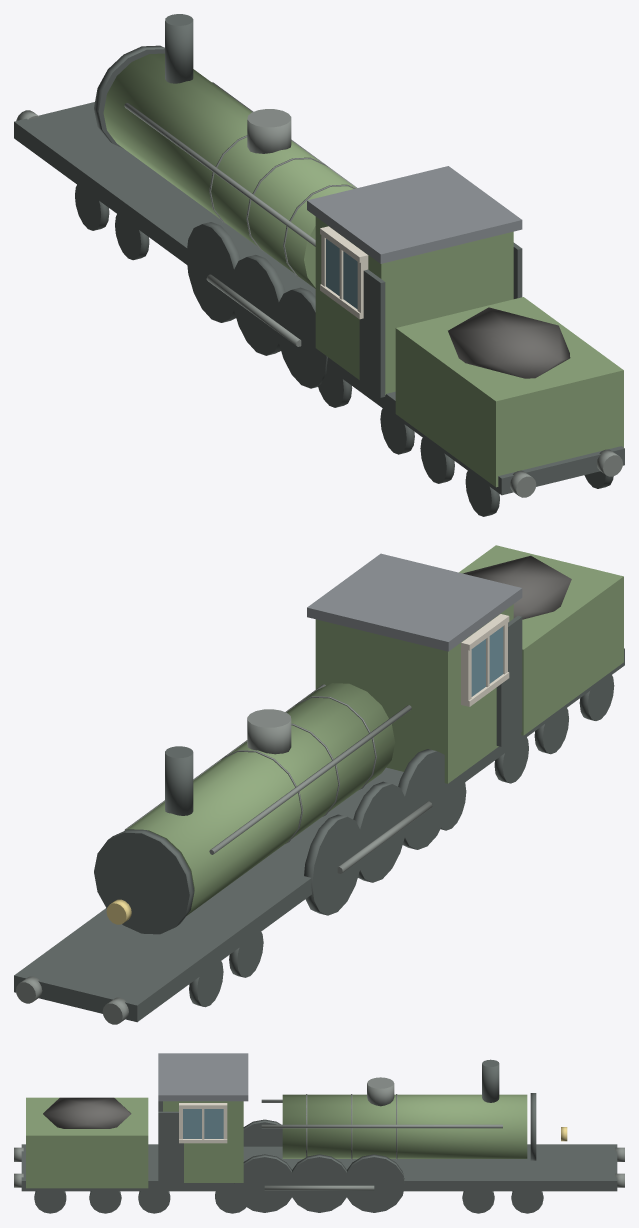
The model's file is tyne-a3_lod0.glb.
The picture shows the model from 3 angles, top to bottom: view 1: azimuth 30°, elevation 25°; view 2: azimuth 150°, elevation 25°; view 3: azimuth 270°, elevation 25°; orthographic projection. The views are drawn at different scales.
Visible parts, largest first — view 1: RF_Tender, RF_Boiler, RF_Chassis, RF_Cab, RF_CabRoof, RF_TenderCoal, RF_DrivingWheel.003, RF_DrivingWheel.002, RF_DrivingWheel.001, RF_CabDoor.001, RF_Chimney, RF_Dome (+10 smaller); view 2: RF_Boiler, RF_Chassis, RF_Cab, RF_Tender, RF_CabRoof, RF_SmokeboxFront, RF_DrivingWheel.003, RF_DrivingWheel.001, RF_DrivingWheel.002, RF_TenderCoal, RF_CabDoor.001, RF_Chimney (+9 smaller); view 3: RF_Boiler, RF_Chassis, RF_Tender, RF_CabRoof, RF_Cab, RF_DrivingWheel, RF_DrivingWheel.004, RF_DrivingWheel.005, RF_TenderCoal, RF_CabDoor, RF_SteamPipe, RF_Window (+13 smaller).
Part boxes in pixels (x1,y1,x2,y2): RF_Tender: (395, 297, 623, 487); RF_Boiler: (103, 53, 355, 288); RF_Chassis: (14, 102, 624, 495); RF_Cab: (315, 217, 513, 394); RF_CabRoof: (307, 166, 522, 263); RF_TenderCoal: (448, 307, 570, 378); RF_DrivingWheel.003: (186, 222, 240, 322); RF_DrivingWheel.002: (234, 255, 285, 355); RF_DrivingWheel.001: (276, 287, 327, 388); RF_CabDoor.001: (359, 269, 385, 397); RF_Chimney: (165, 14, 193, 83); RF_Dome: (247, 109, 291, 153); RF_Boiler: (125, 683, 395, 915); RF_Chassis: (14, 648, 624, 1022); RF_Cab: (315, 604, 513, 783); RF_Tender: (459, 545, 623, 735); RF_CabRoof: (307, 553, 522, 651); RF_SmokeboxFront: (94, 829, 194, 934); RF_DrivingWheel.003: (304, 814, 362, 915); RF_DrivingWheel.001: (398, 749, 452, 849); RF_DrivingWheel.002: (353, 781, 407, 882); RF_TenderCoal: (463, 555, 571, 619); RF_CabDoor.001: (496, 615, 522, 746); RF_Chimney: (165, 746, 193, 815); RF_Boiler: (282, 1094, 527, 1158); RF_Chassis: (21, 1144, 617, 1191); RF_Tender: (26, 1097, 148, 1188); RF_CabRoof: (158, 1053, 248, 1101); RF_Cab: (163, 1101, 243, 1182); RF_DrivingWheel: (345, 1154, 404, 1212); RF_DrivingWheel.004: (234, 1154, 295, 1212); RF_DrivingWheel.005: (290, 1154, 350, 1212); RF_TenderCoal: (43, 1097, 131, 1128); RF_CabDoor: (158, 1111, 183, 1182); RF_SteamPipe: (261, 1124, 502, 1128); RF_Window: (183, 1109, 223, 1138).
Bounding box in the file's own units: 3.28 × 4.53 × 18.98.
